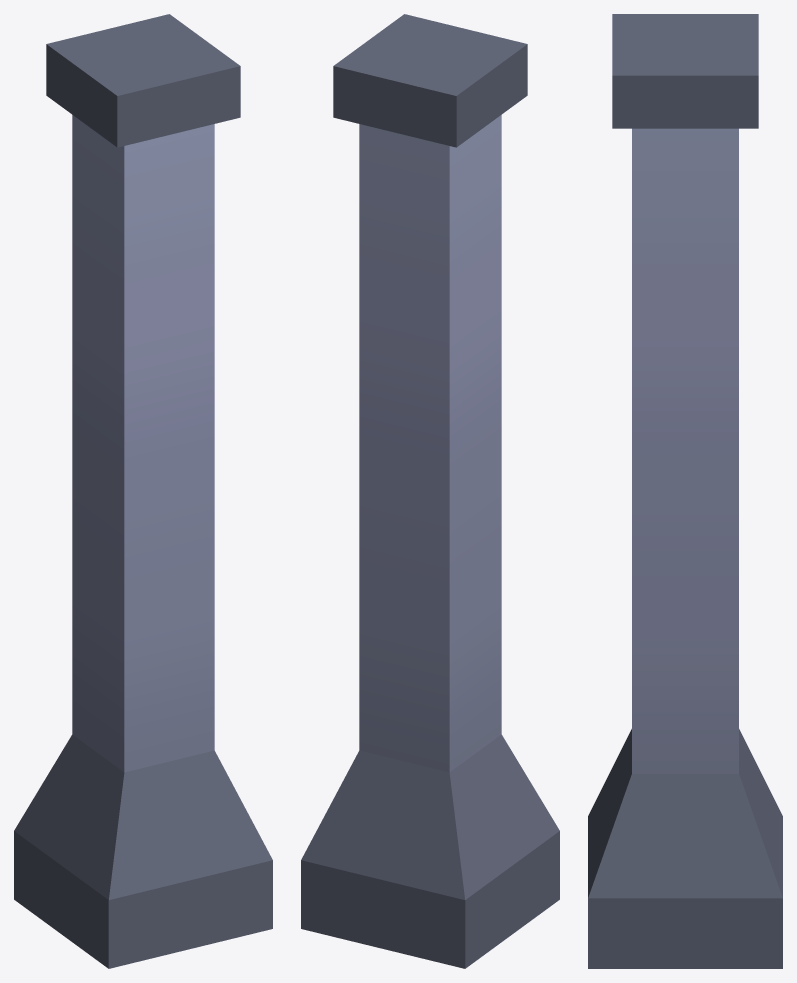
File: roads__bridge-pillar.glb
3 renders of one model, left to right at view 1: azimuth 30°, elevation 25°; view 2: azimuth 150°, elevation 25°; view 3: azimuth 270°, elevation 25°, orthographic. The views are drawn at different scales.
Visible parts, largest first — view 1: bridge-pillar; view 2: bridge-pillar; view 3: bridge-pillar.
Part boxes in pixels (left/top/right/bottom): bridge-pillar: left=14, top=14, right=272, bottom=968; bridge-pillar: left=301, top=14, right=559, bottom=968; bridge-pillar: left=588, top=14, right=782, bottom=968.
Bounding box in the file's own units: 0.1 × 0.5 × 0.1.
1 material, 1 textured.
